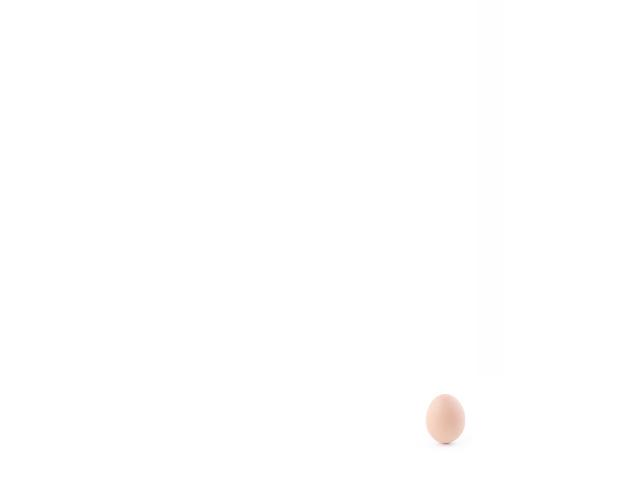egg: (426, 394, 466, 443)
